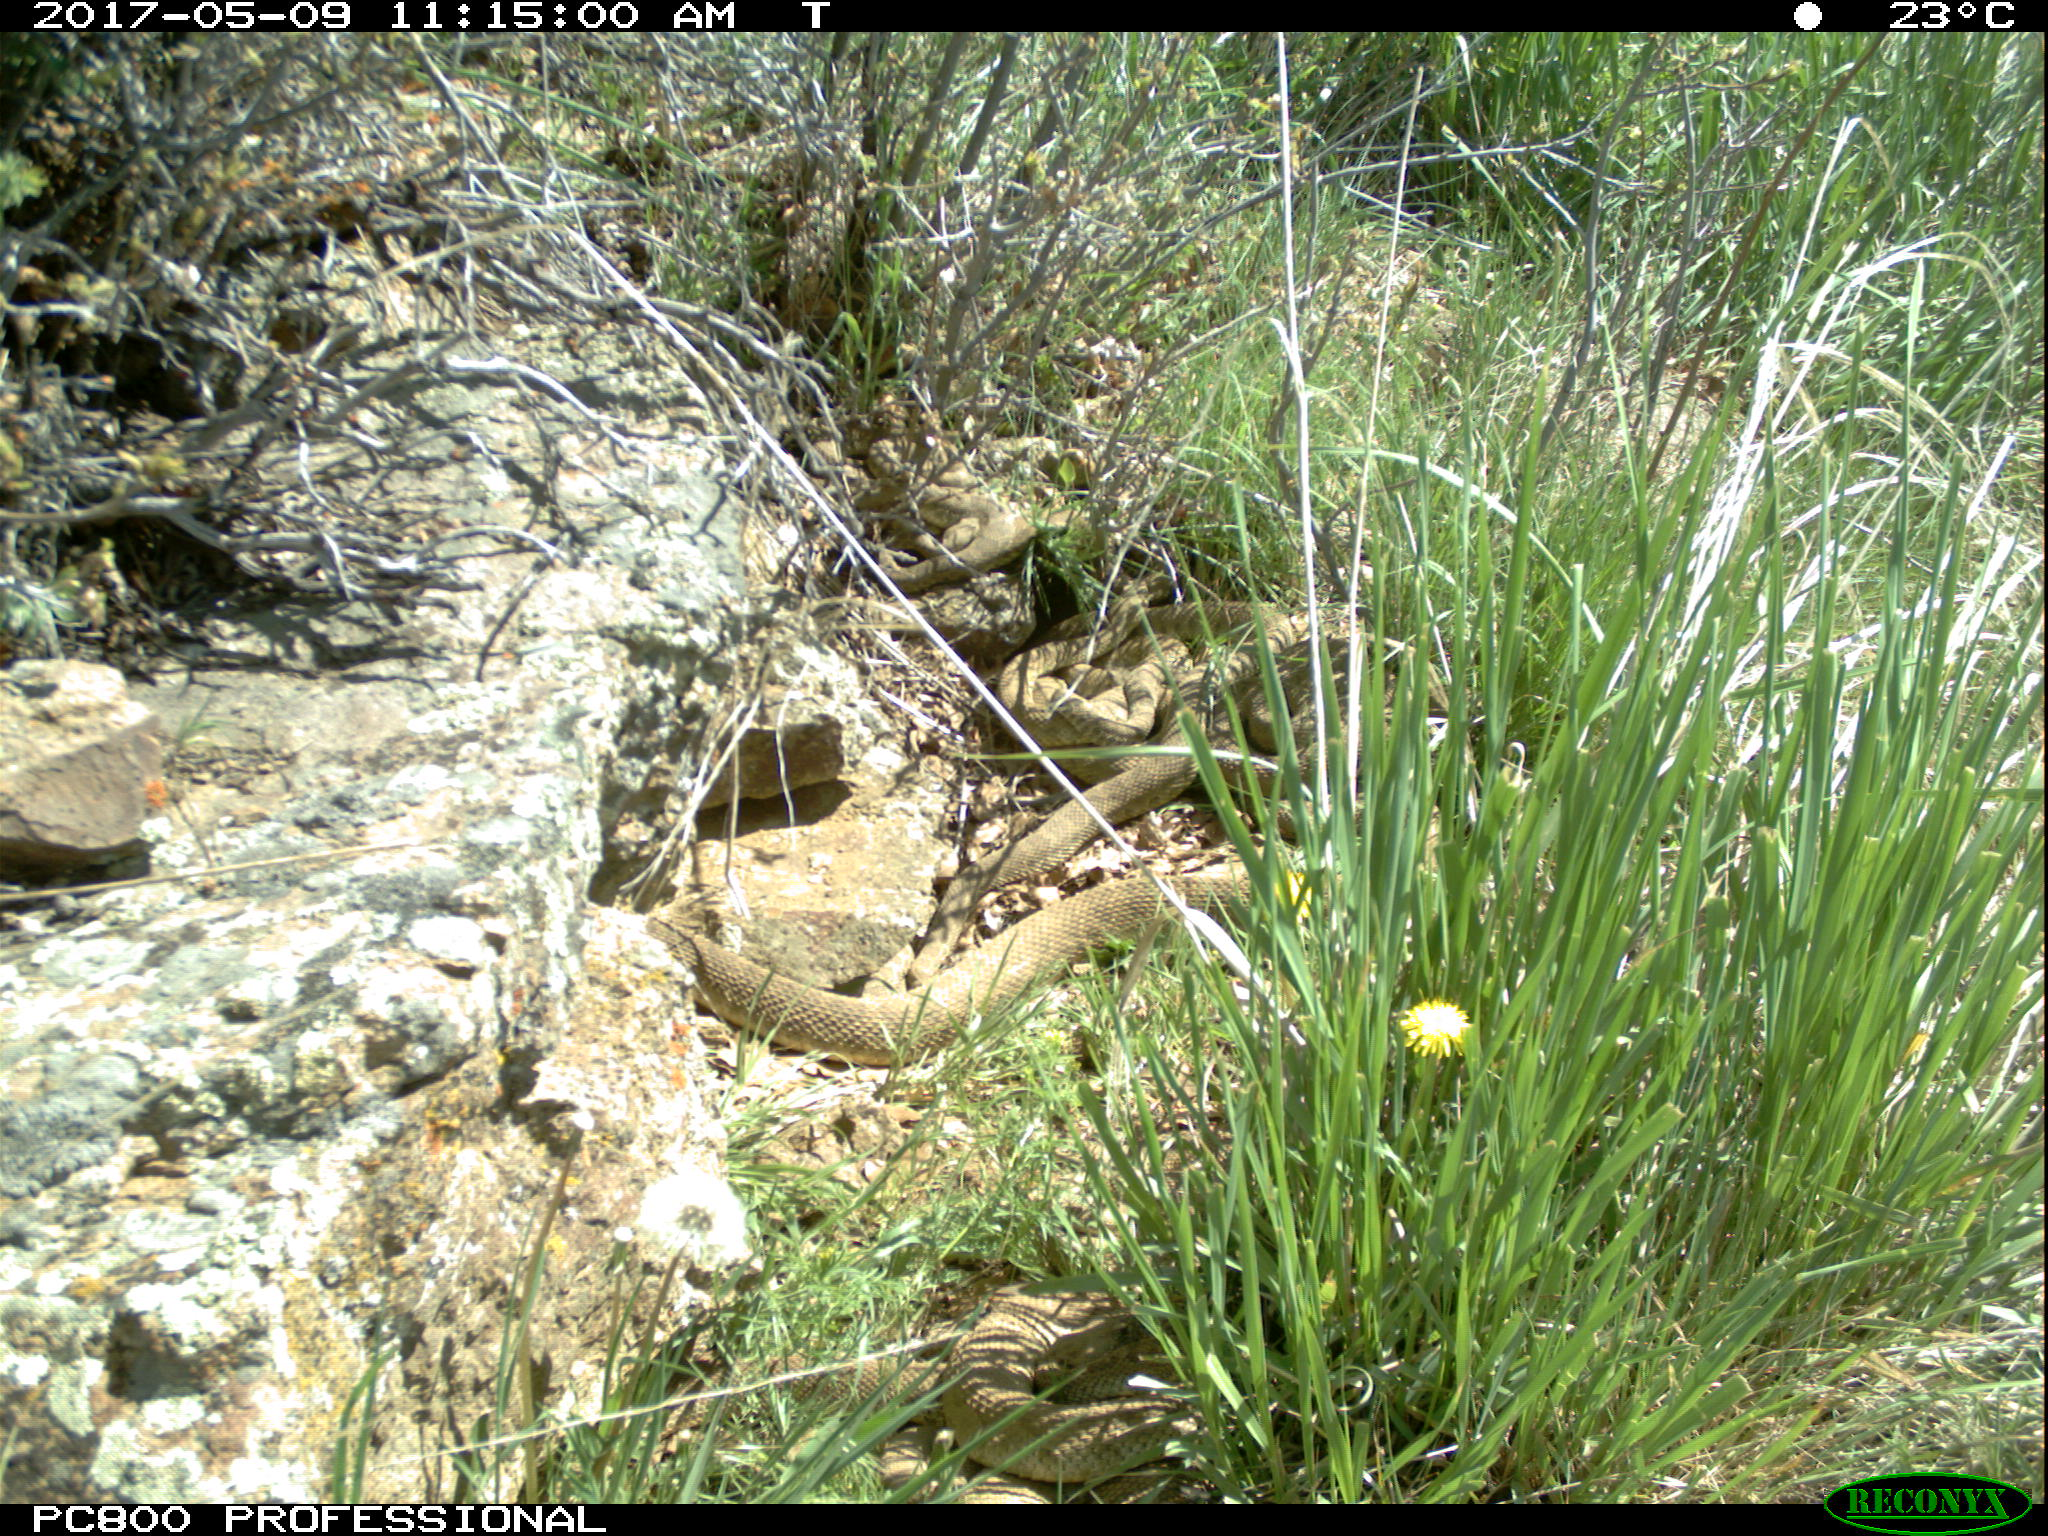snake: (776, 1307, 1201, 1501), (626, 899, 1080, 1050), (1121, 600, 1406, 787), (1009, 641, 1214, 805), (1016, 862, 1290, 958), (856, 439, 1035, 576)
